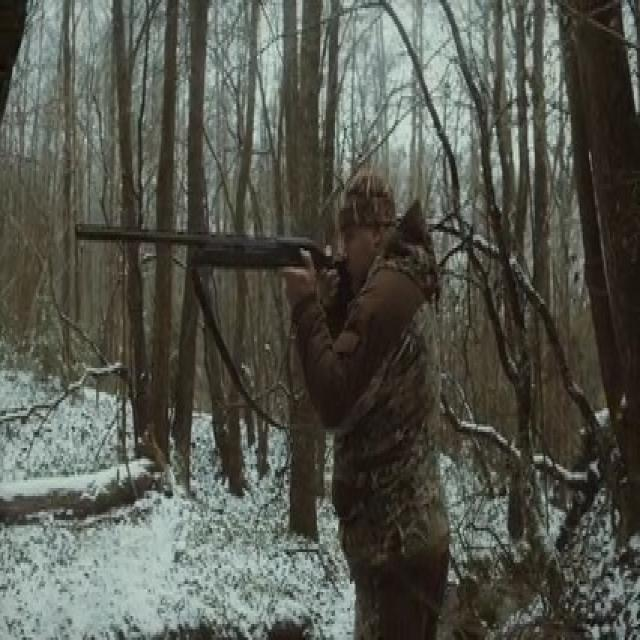Gun_Holder: (75, 217, 348, 326)
Person: (293, 172, 450, 640)
